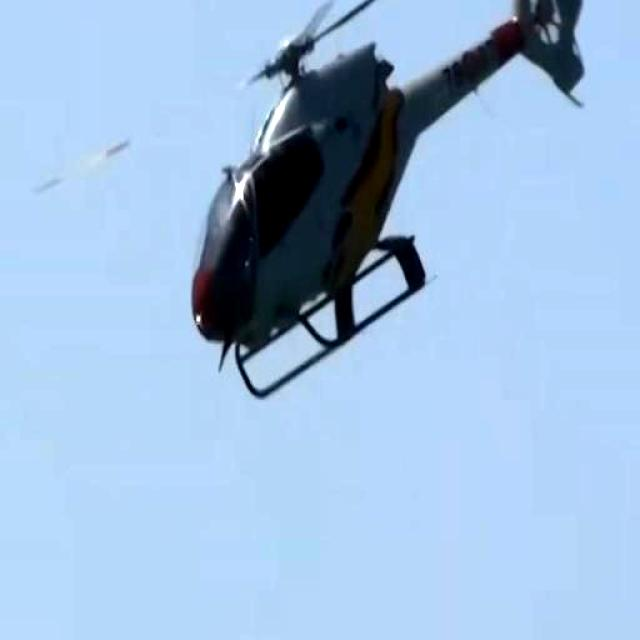drone: (104, 0, 598, 409)
